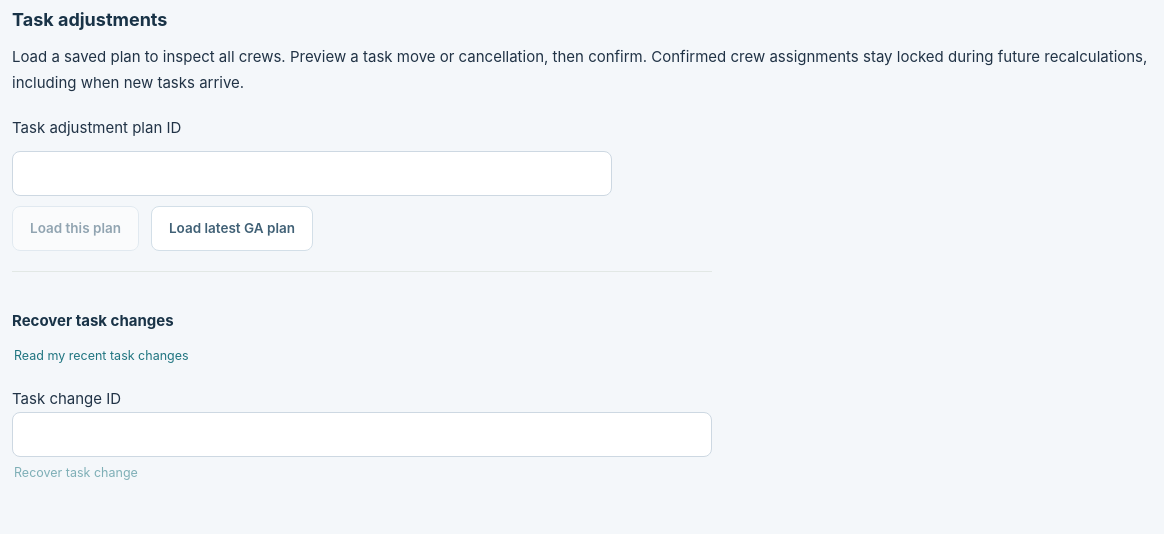
it: loads route facts and requires explicit preview acknowledgement and confirmation
Click the button "Load latest GA plan" at [232, 229], box 151,206 -> 313,251
(page scrolled)
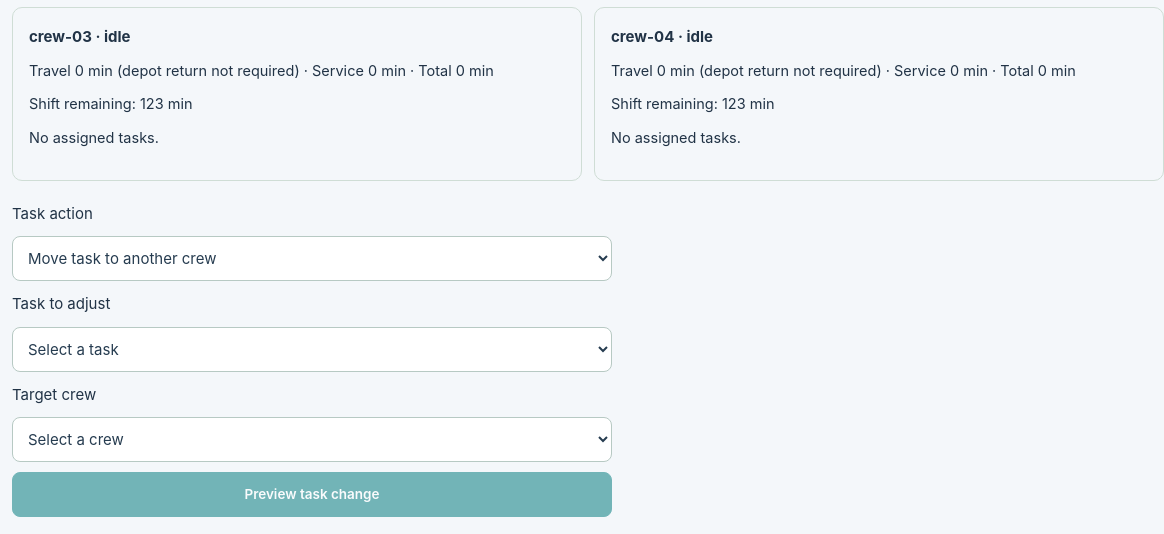
Select "crew-02 / Stop 1 / deep_pothole / 389a115994534705b5e931e07c10f94f" in the dropdown labelled "Task to adjust" at [312, 349], box 12,327 -> 612,372
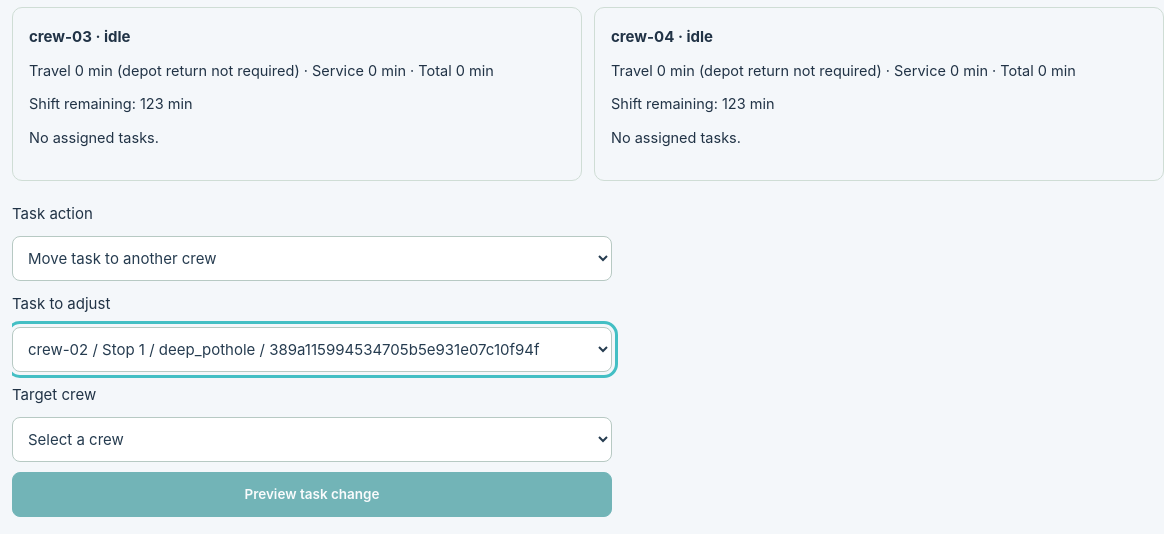
Select "crew-03" in the dropdown labelled "Target crew" at [312, 440], box 12,417 -> 612,462
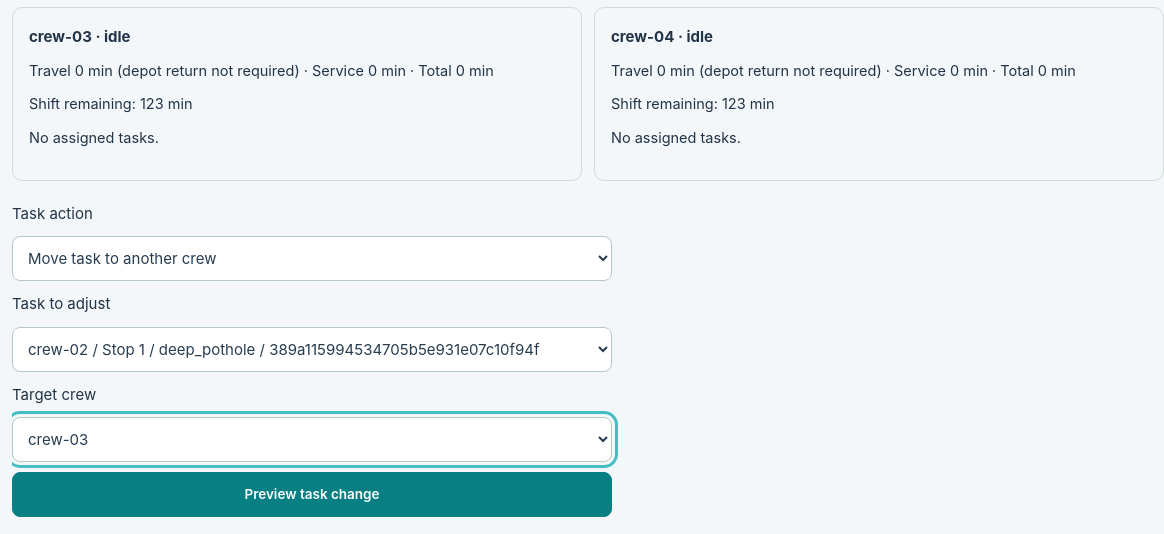
Expected: the text "Shift remaining: 123 min" is shown 4 times
Click the button "Preview task change" at [312, 495], box 12,472 -> 612,517
(page scrolled)
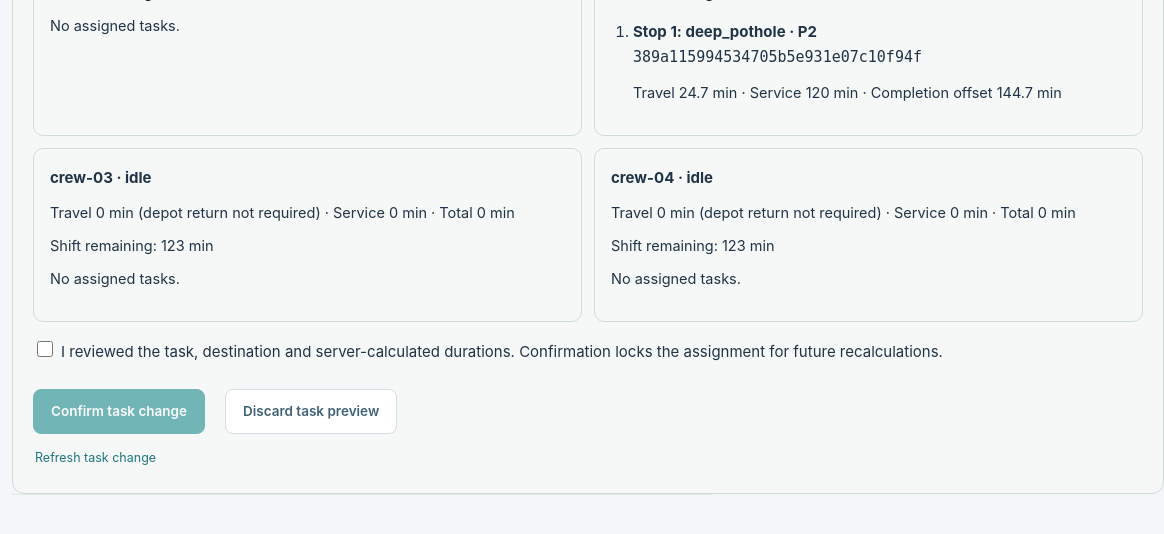
Expected: the button "Confirm task change" is disabled, 33,389 -> 205,434
Click the checkbox at [45, 349], box 37,341 -> 53,357
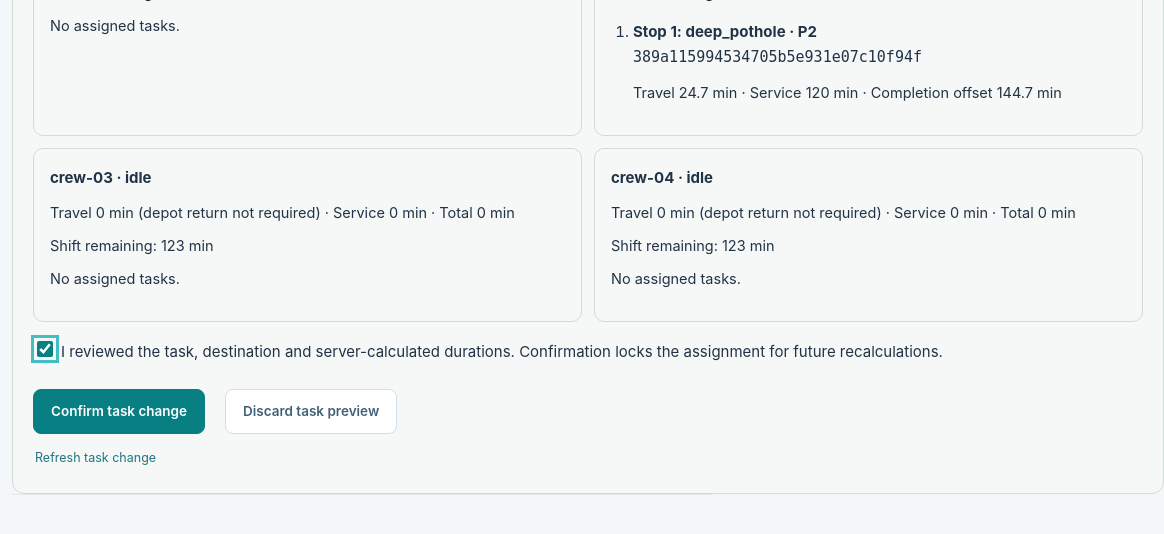
Click the button "Confirm task change" at [119, 411], box 33,389 -> 205,434
(page scrolled)
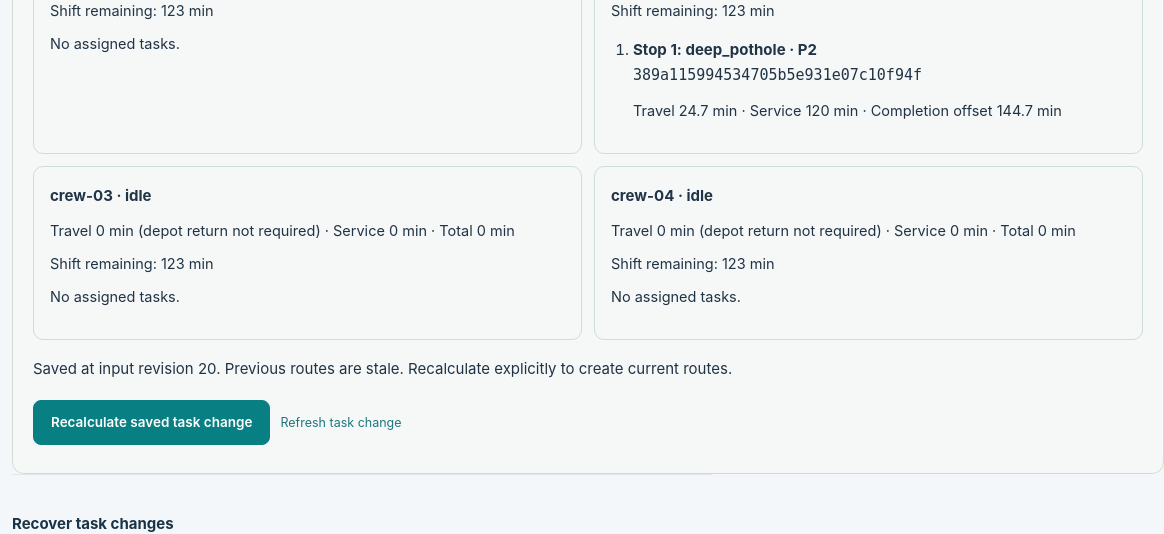
Expected: the button "Recalculate saved task change" is shown, 33,400 -> 270,444
